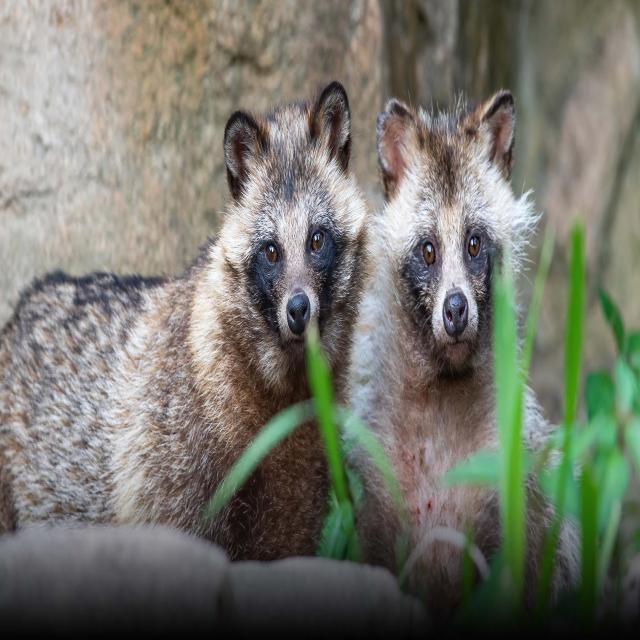Raccoon: (0, 88, 367, 540), (367, 94, 579, 617)
